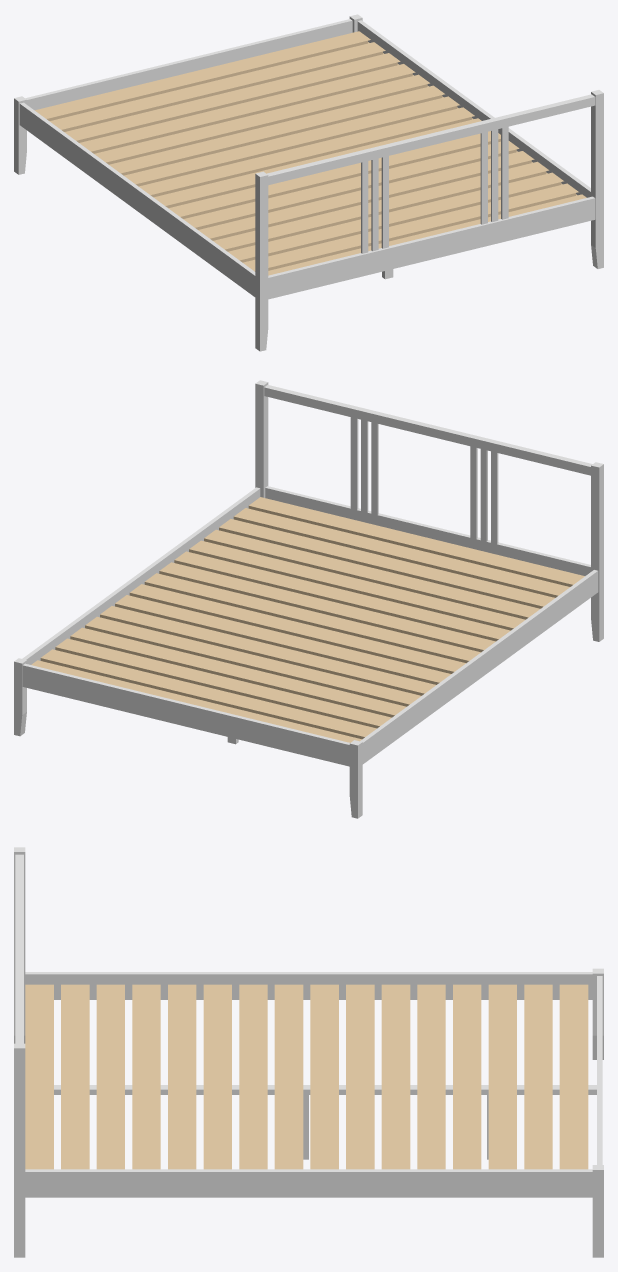
The picture shows the model from 3 angles, top to bottom: view 1: azimuth 30°, elevation 25°; view 2: azimuth 150°, elevation 25°; view 3: azimuth 270°, elevation 25°; orthographic projection. The views are drawn at different scales.
Visible parts, largest first — view 1: Mesh16 Model, Mesh8 Beam_1_8 Model, Mesh9 Beam_1_9 Model, Mesh10 Beam_1_10 Model, Mesh11 Beam_1_11 Model, Mesh12 Beam_1_12 Model, Mesh13 Beam_1_13 Model, Mesh14 Beam_1_14 Model, Mesh15 Beam_1_15 Model, Mesh1 Beam_1_1 Model, Mesh2 Beam_1_2 Model, Mesh3 Beam_1_3 Model (+4 smaller); view 2: Mesh16 Model, Mesh8 Beam_1_8 Model, Mesh14 Beam_1_14 Model, Mesh4 Beam_1_4 Model, Mesh5 Beam_1_5 Model, Mesh6 Beam_1_6 Model, Mesh7 Beam_1_7 Model, Mesh11 Beam_1_11 Model, Mesh12 Beam_1_12 Model, Mesh13 Beam_1_13 Model, Mesh1 Beam_1_1 Model, Mesh3 Beam_1_3 Model (+4 smaller); view 3: Mesh16 Model, Mesh7 Beam_1_7 Model, Mesh10 Beam_1_10 Model, Mesh15 Beam_1_15 Model, Mesh1 Beam_1_1 Model, Mesh3 Beam_1_3 Model, Mesh6 Beam_1_6 Model, Mesh8 Beam_1_8 Model, Mesh9 Beam_1_9 Model, Mesh11 Beam_1_11 Model, Mesh14 Beam_1_14 Model, Mesh2 Beam_1_2 Model (+4 smaller).
Part boxes in pixels (x1,y1,x2,y2): Mesh16 Model: [14, 14, 603, 351]; Mesh8 Beam_1_8 Model: [139, 107, 474, 197]; Mesh9 Beam_1_9 Model: [124, 96, 459, 186]; Mesh10 Beam_1_10 Model: [109, 85, 444, 175]; Mesh11 Beam_1_11 Model: [94, 74, 429, 164]; Mesh12 Beam_1_12 Model: [79, 64, 415, 153]; Mesh13 Beam_1_13 Model: [64, 53, 400, 142]; Mesh14 Beam_1_14 Model: [49, 42, 385, 131]; Mesh15 Beam_1_15 Model: [35, 31, 370, 120]; Mesh1 Beam_1_1 Model: [243, 183, 578, 271]; Mesh2 Beam_1_2 Model: [228, 172, 563, 262]; Mesh3 Beam_1_3 Model: [213, 161, 548, 251]; Mesh16 Model: [14, 380, 603, 818]; Mesh8 Beam_1_8 Model: [129, 584, 465, 673]; Mesh14 Beam_1_14 Model: [40, 649, 376, 739]; Mesh4 Beam_1_4 Model: [189, 540, 525, 630]; Mesh5 Beam_1_5 Model: [174, 551, 510, 641]; Mesh6 Beam_1_6 Model: [159, 562, 495, 652]; Mesh7 Beam_1_7 Model: [144, 573, 480, 663]; Mesh11 Beam_1_11 Model: [85, 616, 421, 706]; Mesh12 Beam_1_12 Model: [70, 627, 406, 717]; Mesh13 Beam_1_13 Model: [55, 638, 391, 728]; Mesh1 Beam_1_1 Model: [233, 508, 569, 597]; Mesh3 Beam_1_3 Model: [204, 529, 540, 619]; Mesh16 Model: [14, 847, 603, 1257]; Mesh7 Beam_1_7 Model: [274, 984, 303, 1169]; Mesh10 Beam_1_10 Model: [381, 984, 410, 1169]; Mesh15 Beam_1_15 Model: [559, 984, 588, 1169]; Mesh1 Beam_1_1 Model: [61, 984, 89, 1169]; Mesh3 Beam_1_3 Model: [132, 984, 160, 1169]; Mesh6 Beam_1_6 Model: [239, 984, 267, 1169]; Mesh8 Beam_1_8 Model: [310, 984, 338, 1169]; Mesh9 Beam_1_9 Model: [346, 984, 374, 1169]; Mesh11 Beam_1_11 Model: [417, 984, 445, 1169]; Mesh14 Beam_1_14 Model: [524, 984, 552, 1169]; Mesh2 Beam_1_2 Model: [96, 984, 124, 1169].
Size of the model in its own units: 0.6007 by 0.2913 by 0.7445.
